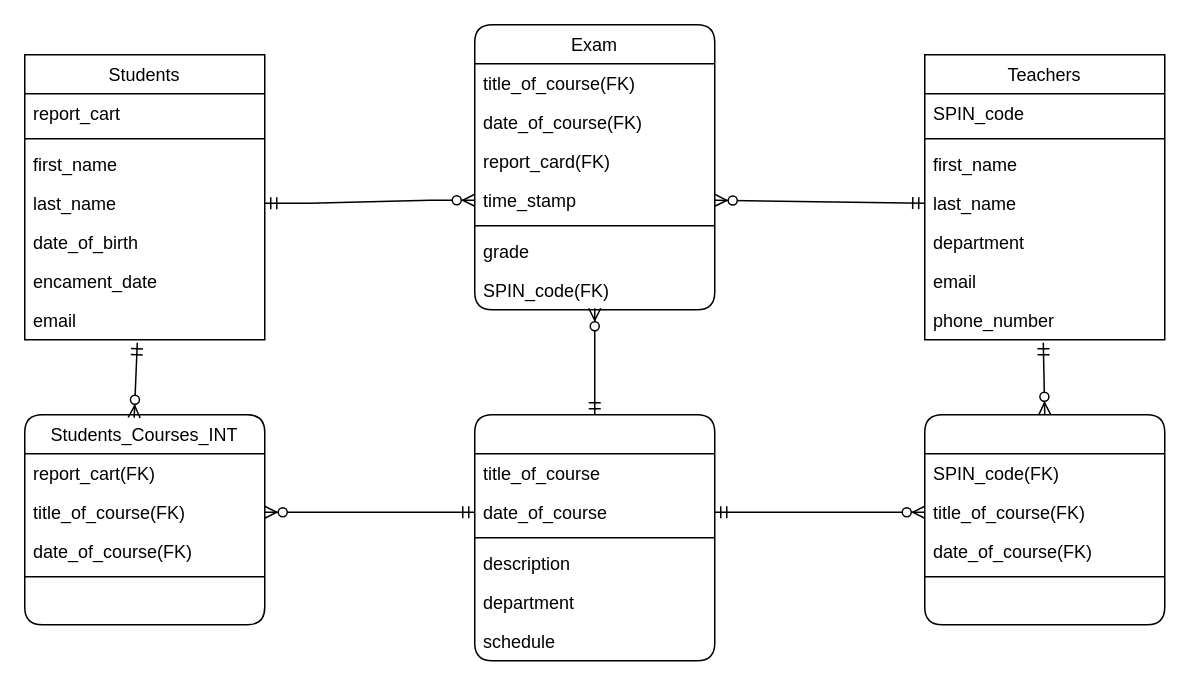
Some shapes in this 1190 by 686 pixel diagram are drawn without their labels. The box of each missing label's shape, as (x1, y1, x2, y2) in pixels:
Courses: (473, 413, 715, 661)
Teachers_Courses_INT: (923, 413, 1165, 625)
